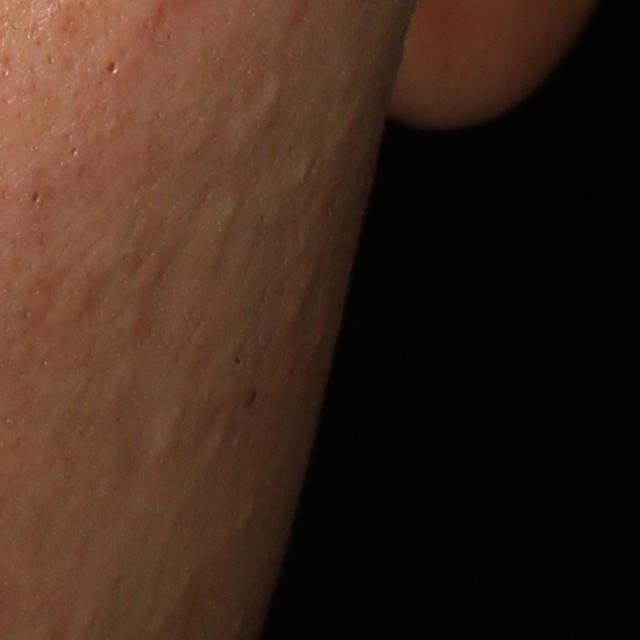comedo: (146, 404, 186, 459), (260, 74, 288, 112), (293, 153, 318, 189), (103, 58, 122, 77)
